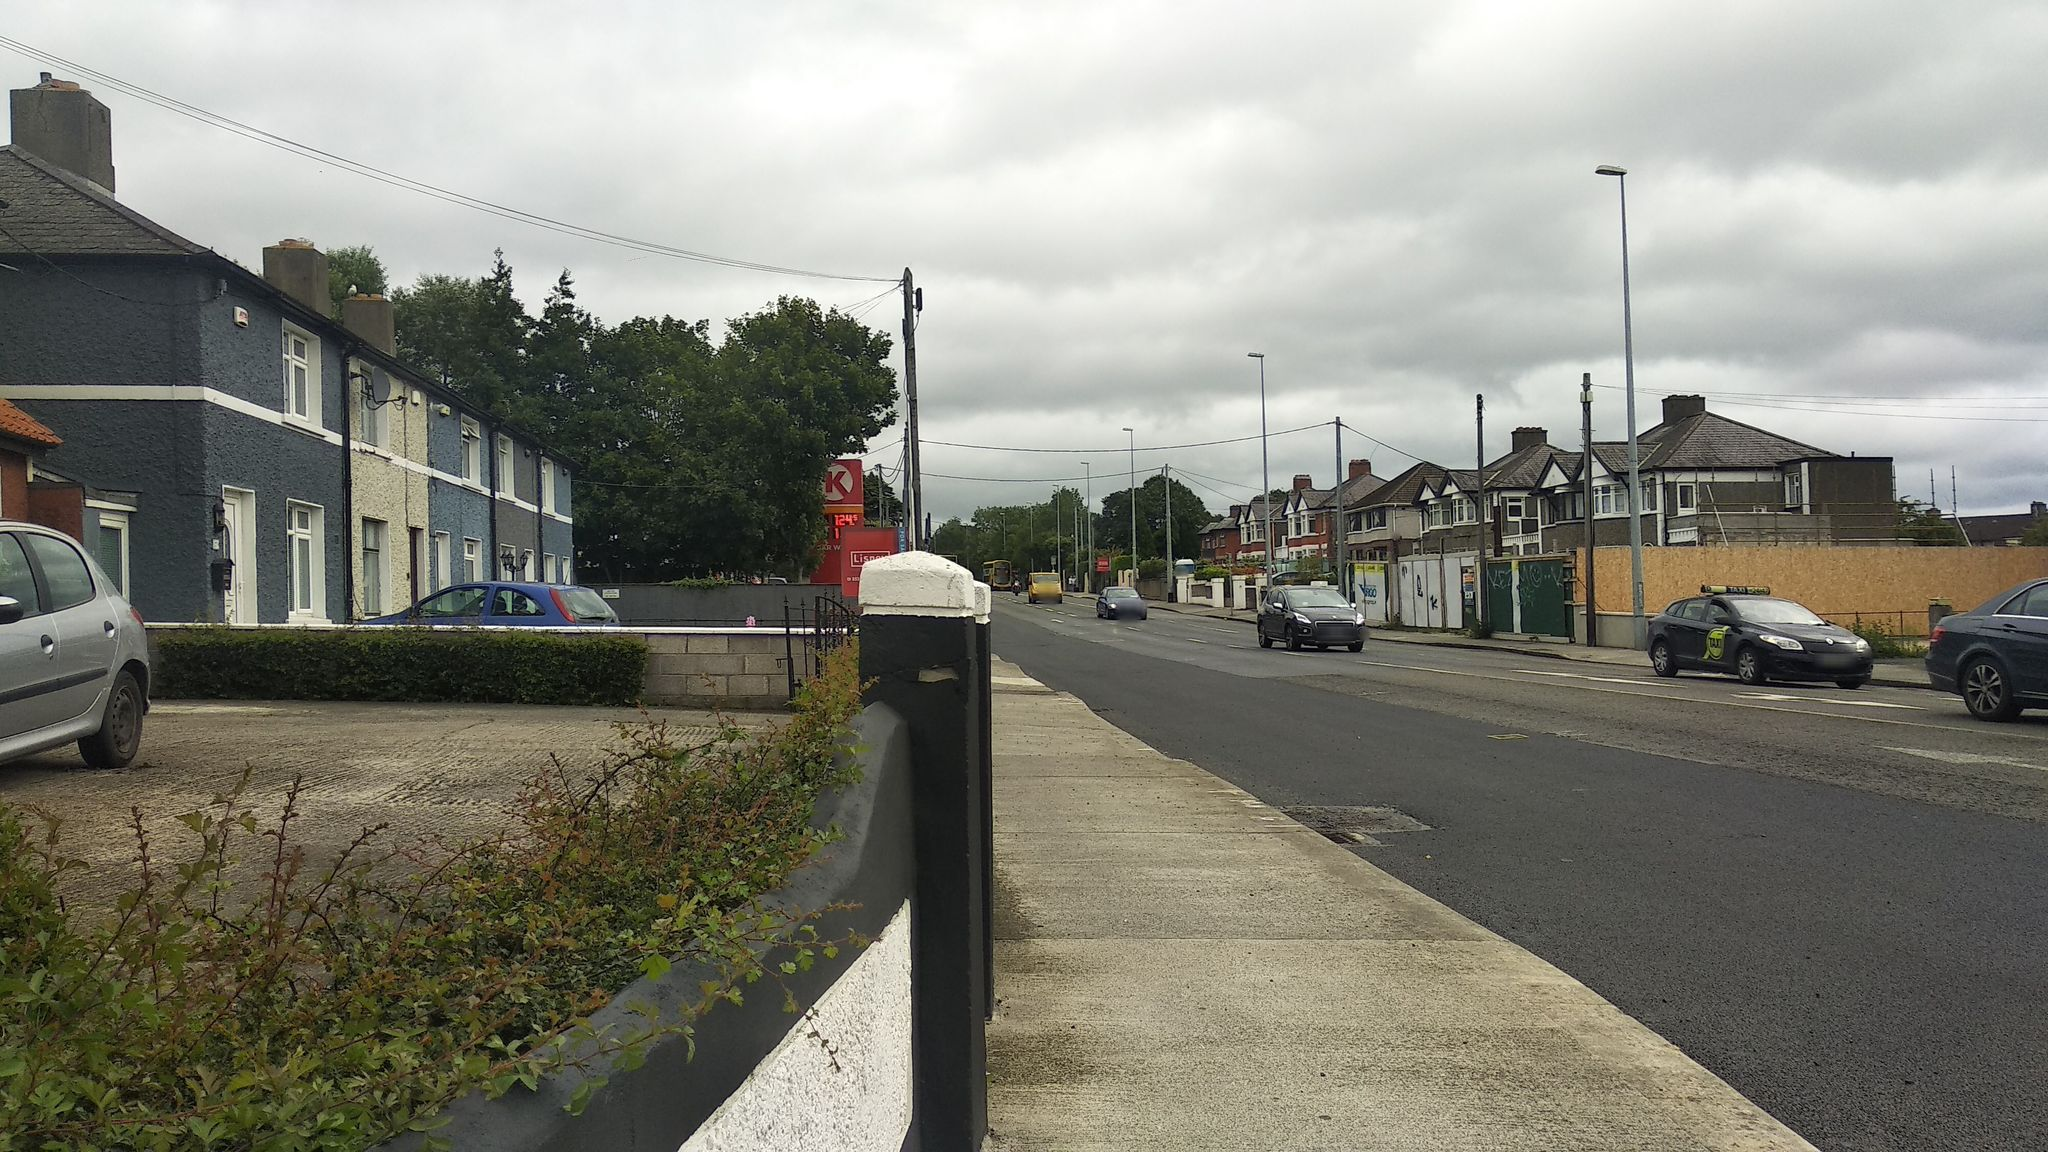property sign: (830, 512, 923, 603)
